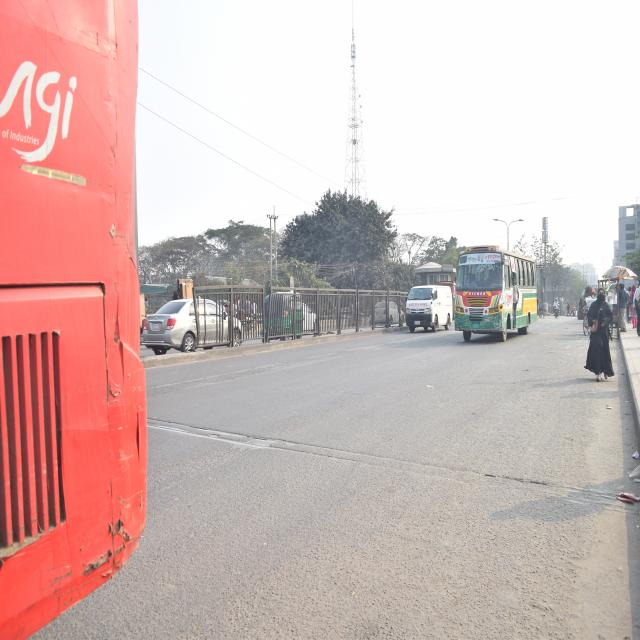bus: (0, 0, 145, 640), (456, 242, 539, 342)
car: (143, 286, 244, 371)
microbus: (405, 279, 454, 338)
motorbike: (550, 294, 564, 322)
